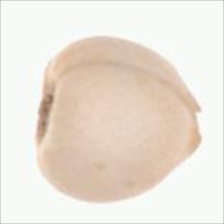L3: (192, 99, 204, 150)
L4: (34, 35, 204, 203)
